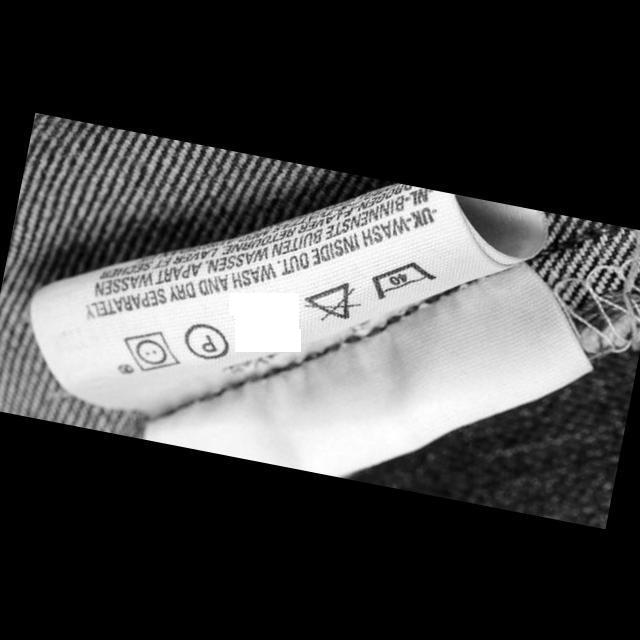40C: (364, 252, 440, 310)
DN_bleach: (299, 272, 367, 328)
normal_dry_clean_solvents: (176, 316, 234, 365)
tumble_dry_medium: (116, 322, 186, 379)
